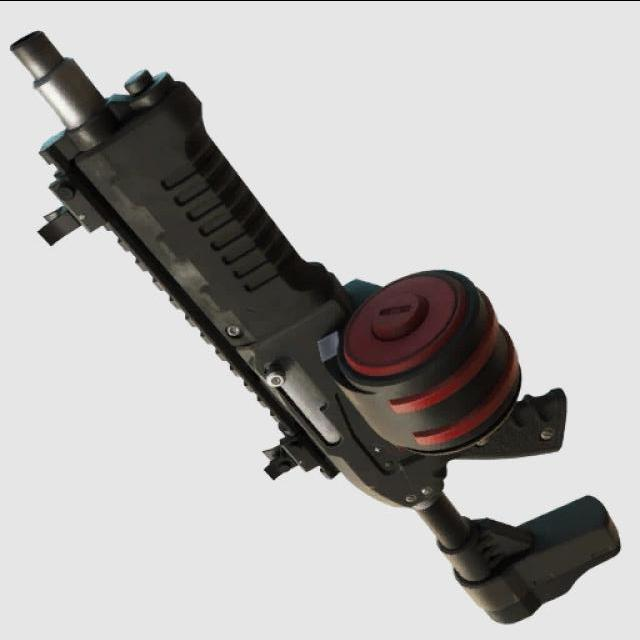rifle: (9, 26, 640, 633)
